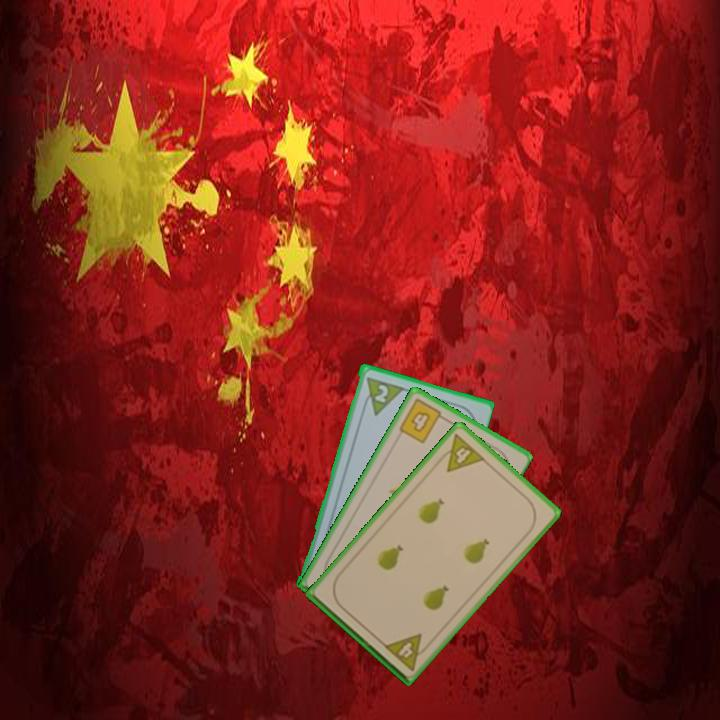2p: (358, 373, 405, 418)
4b: (395, 395, 450, 446)
4p: (433, 430, 488, 475), (380, 630, 433, 673)
